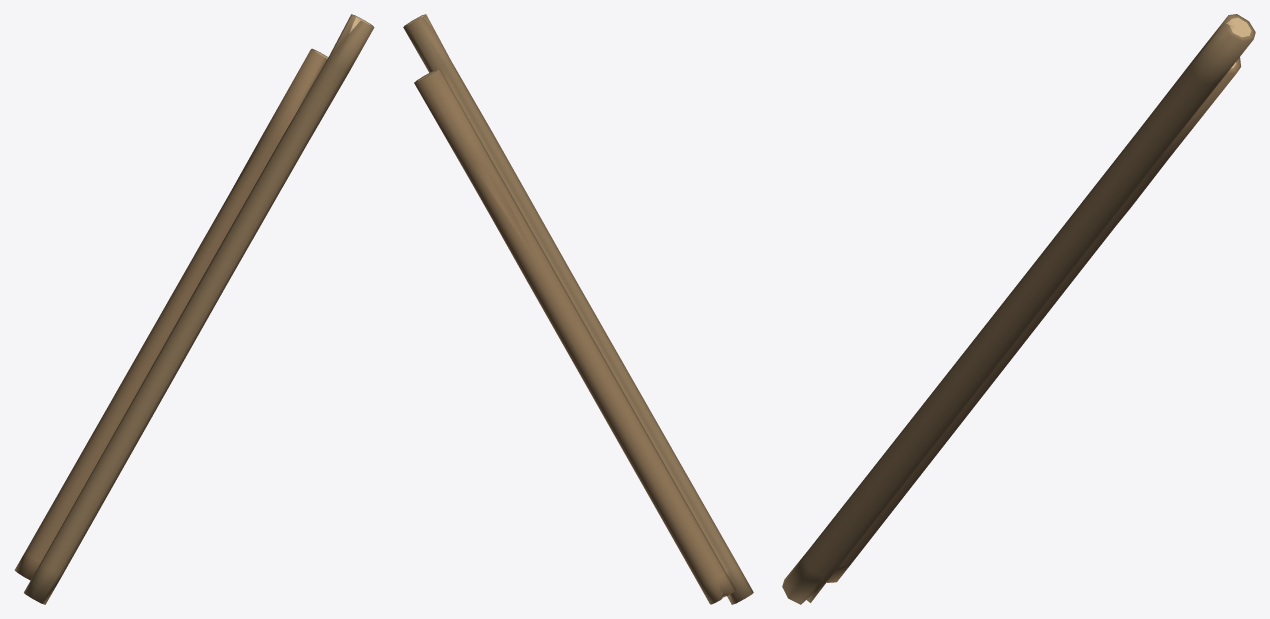
The model's file is rpgpp_ag_roof_01_6x5x3_end_01b_half.fbx.
The picture shows the model from 3 angles, left to right: view 1: azimuth 30°, elevation 25°; view 2: azimuth 150°, elevation 25°; view 3: azimuth 330°, elevation 25°; orthographic projection. The views are drawn at different scales.
Visible parts, largest first — view 1: rpgpp_ag_roof_01_6x5x3_end_01b_half; view 2: rpgpp_ag_roof_01_6x5x3_end_01b_half; view 3: rpgpp_ag_roof_01_6x5x3_end_01b_half.
Part boxes in pixels (x1=…): rpgpp_ag_roof_01_6x5x3_end_01b_half: x1=14, y1=14, x2=374, y2=604; rpgpp_ag_roof_01_6x5x3_end_01b_half: x1=403, y1=14, x2=753, y2=604; rpgpp_ag_roof_01_6x5x3_end_01b_half: x1=782, y1=14, x2=1255, y2=604.
Size of the model in its own units: 5.62 by 7.91 by 0.81.
